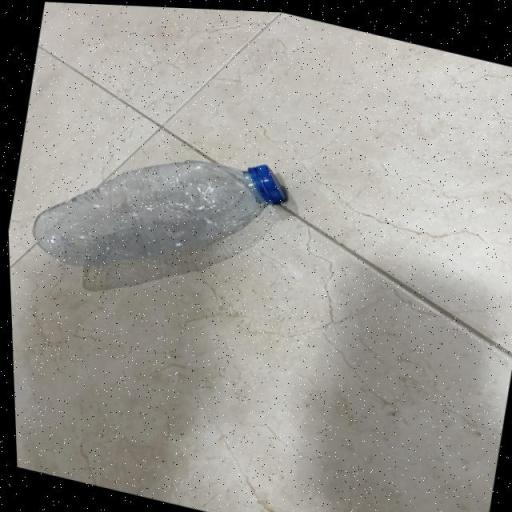plastic: (16, 108, 302, 319)
